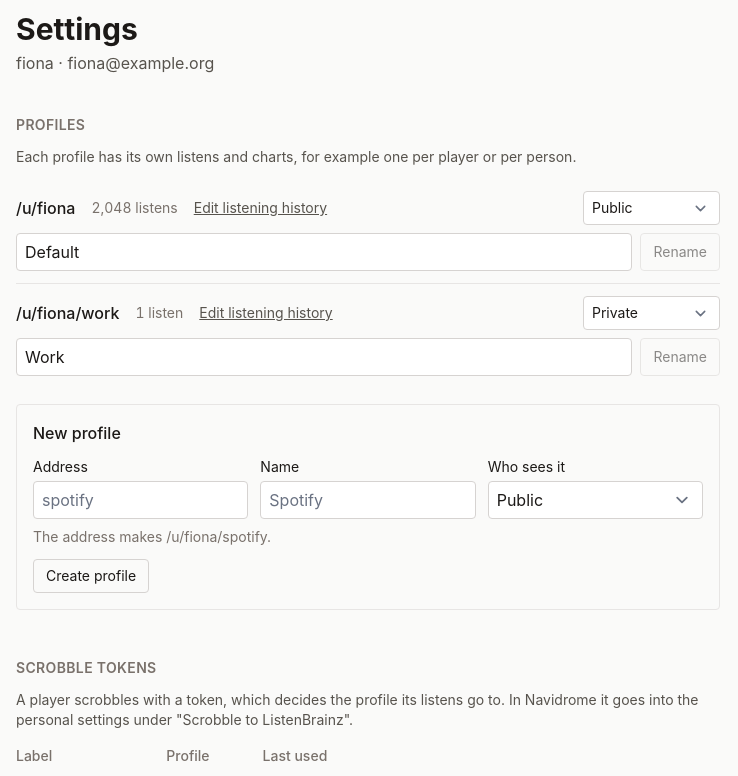
it: profiles › shows an error next to the profile
The width and height of the screenshot is (738, 776).
Select "Private" in the dropdown named "Who sees Default" at (652, 208), box left=583, top=191, right=720, bottom=225
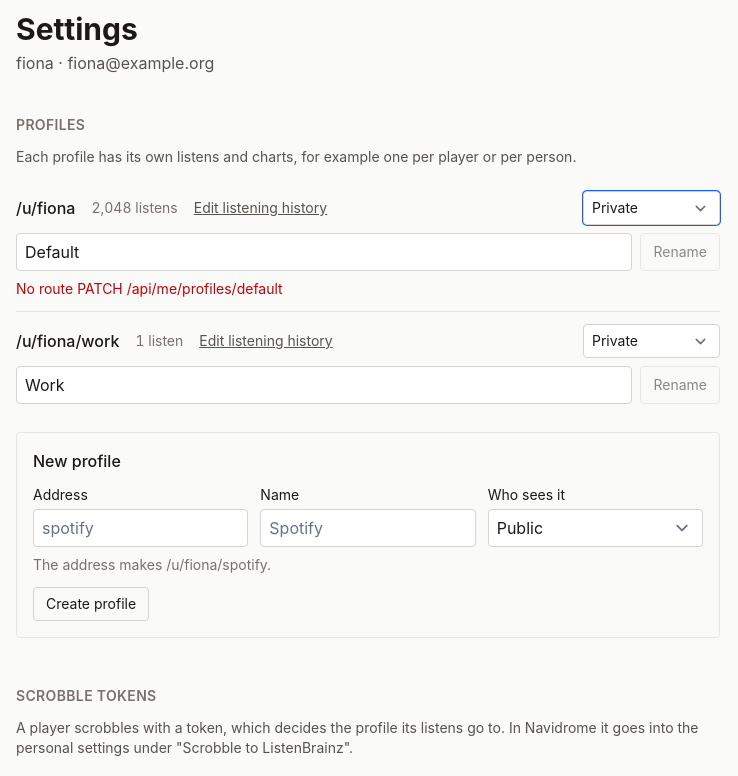
Expected: the message shows "No route PATCH", left=16, top=280, right=283, bottom=297
